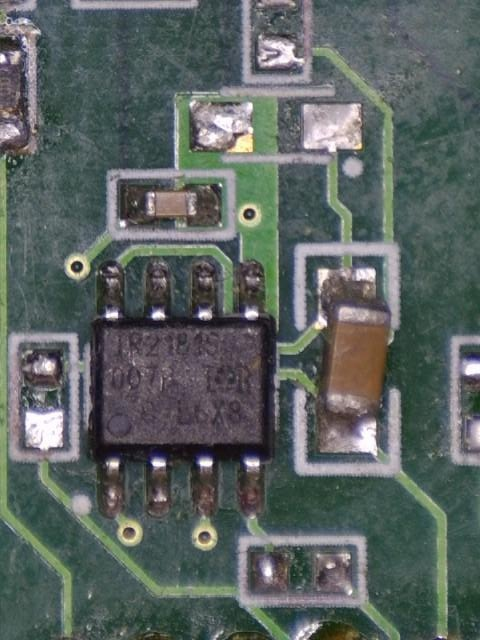pcb_defect: (315, 266, 391, 455)
